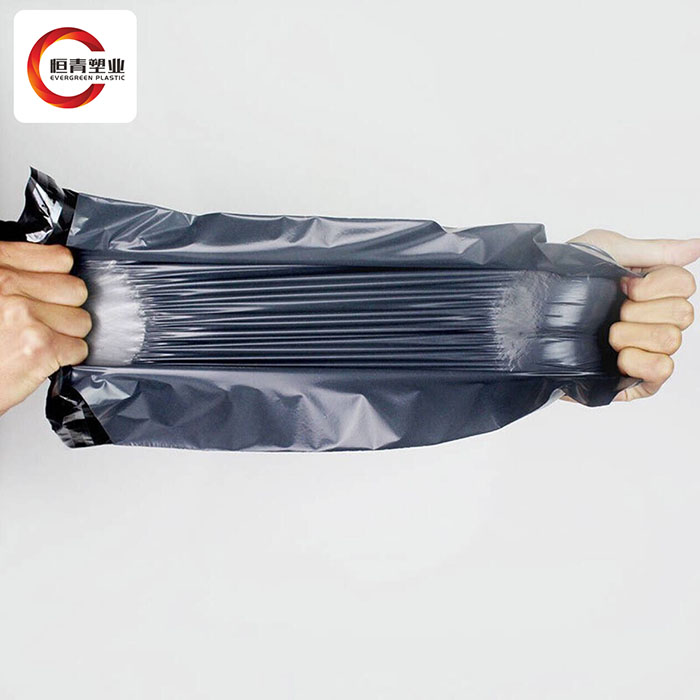塑料袋: (0, 166, 646, 506)
